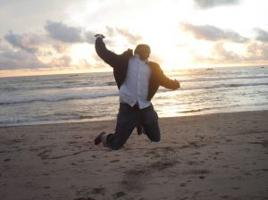person: (96, 34, 181, 148)
